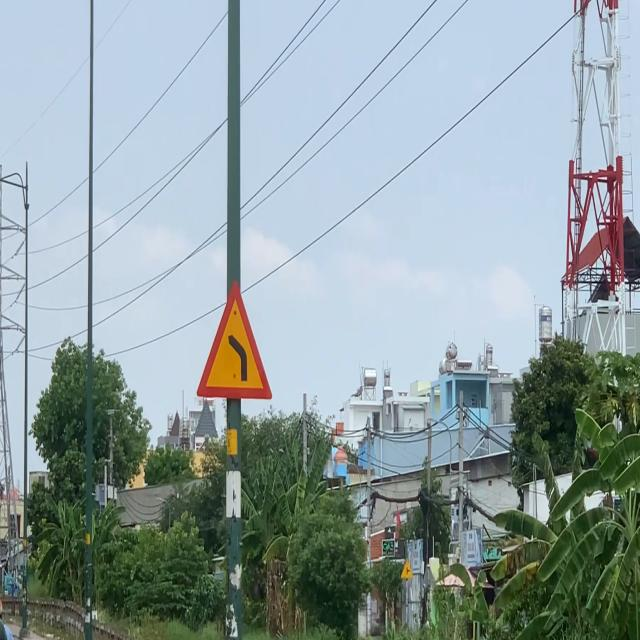Nguy hiem: (196, 279, 273, 400)
